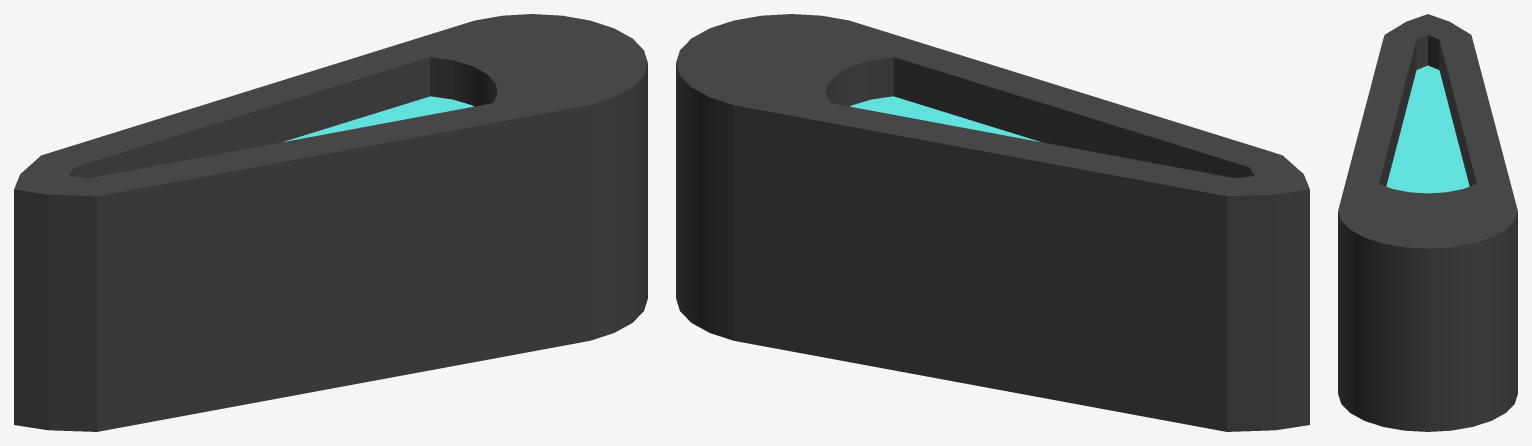
File: flipper_fix.fbx
The picture shows the model from 3 angles, left to right: view 1: azimuth 30°, elevation 25°; view 2: azimuth 150°, elevation 25°; view 3: azimuth 270°, elevation 25°; orthographic projection. The views are drawn at different scales.
Visible parts, largest first — view 1: Flipper_0; view 2: Flipper_0; view 3: Flipper_0.
Boxes of the visible parts, x1,y1,x2,y2 form: Flipper_0: (14,14,647,431); Flipper_0: (676,14,1309,431); Flipper_0: (1338,14,1517,431).
Bounding box in the file's own units: 218 × 79.52 × 70.69.
